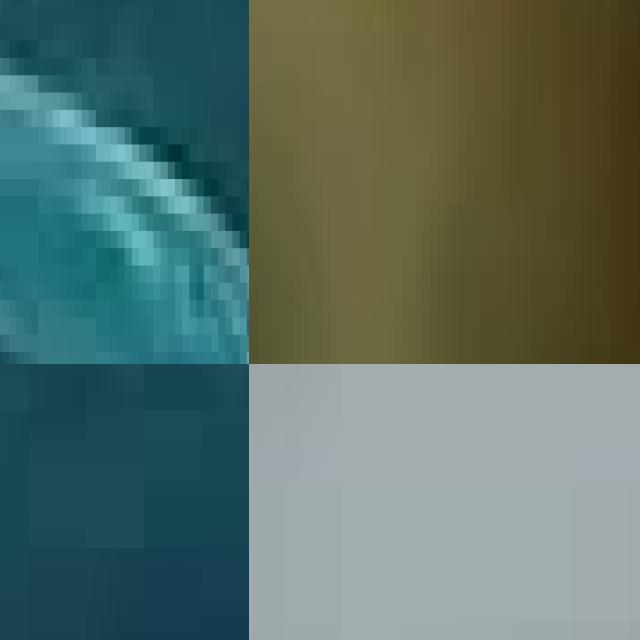fish: (249, 364, 640, 621), (0, 0, 249, 364)
